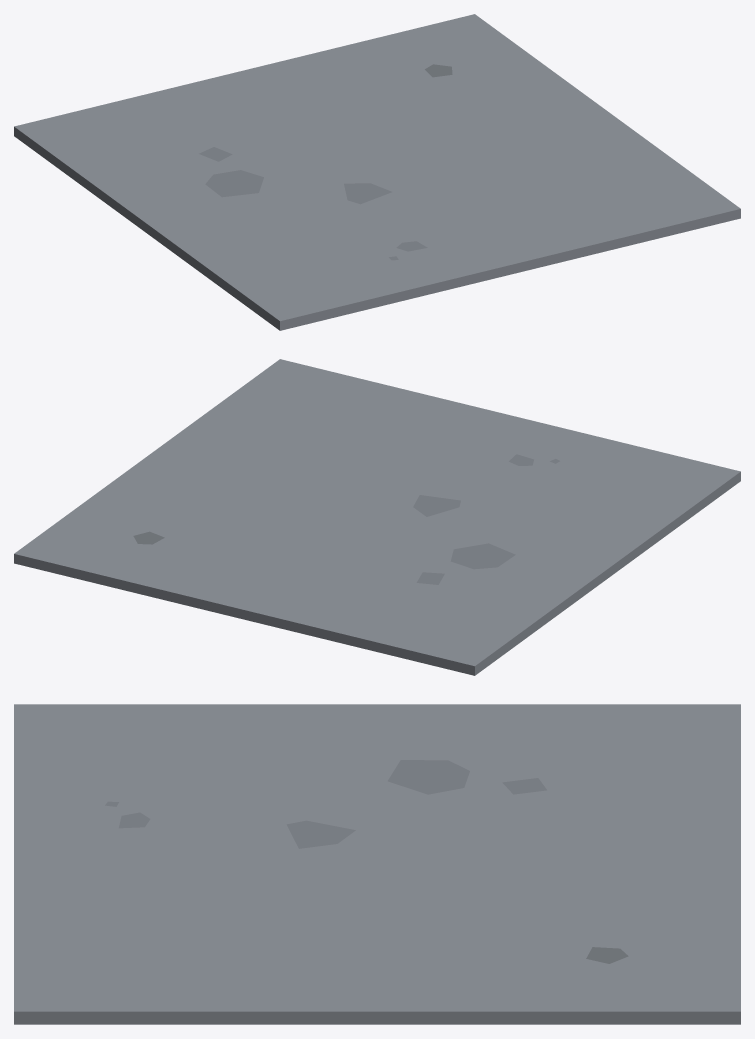
File: Floor_02.fbx
3 renders of one model, top to bottom at view 1: azimuth 30°, elevation 25°; view 2: azimuth 150°, elevation 25°; view 3: azimuth 270°, elevation 25°, orthographic. The views are drawn at different scales.
Parts seen in each view (by area): view 1: Floor_02_LOD0; view 2: Floor_02_LOD0; view 3: Floor_02_LOD0.
Part boxes in pixels (x1,y1,x2,y2): Floor_02_LOD0: (14,14,740,330); Floor_02_LOD0: (14,359,740,675); Floor_02_LOD0: (14,704,740,1024).
Size of what is drawn, in the model's own units: 500 by 10 by 500.
